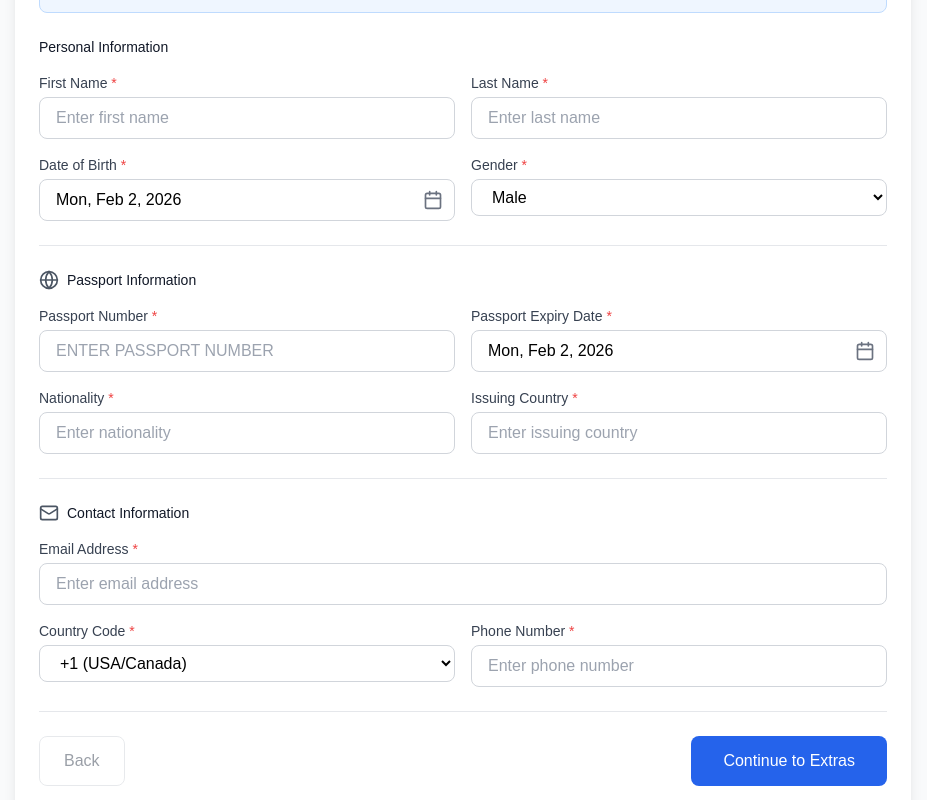
it: PassengerForm › Validation - Passport Information › shows error for empty passport number on international flights
(page scrolled)
Step 1. Click the button "Continue to Extras" → point(789, 761), box [691,736,887,786]
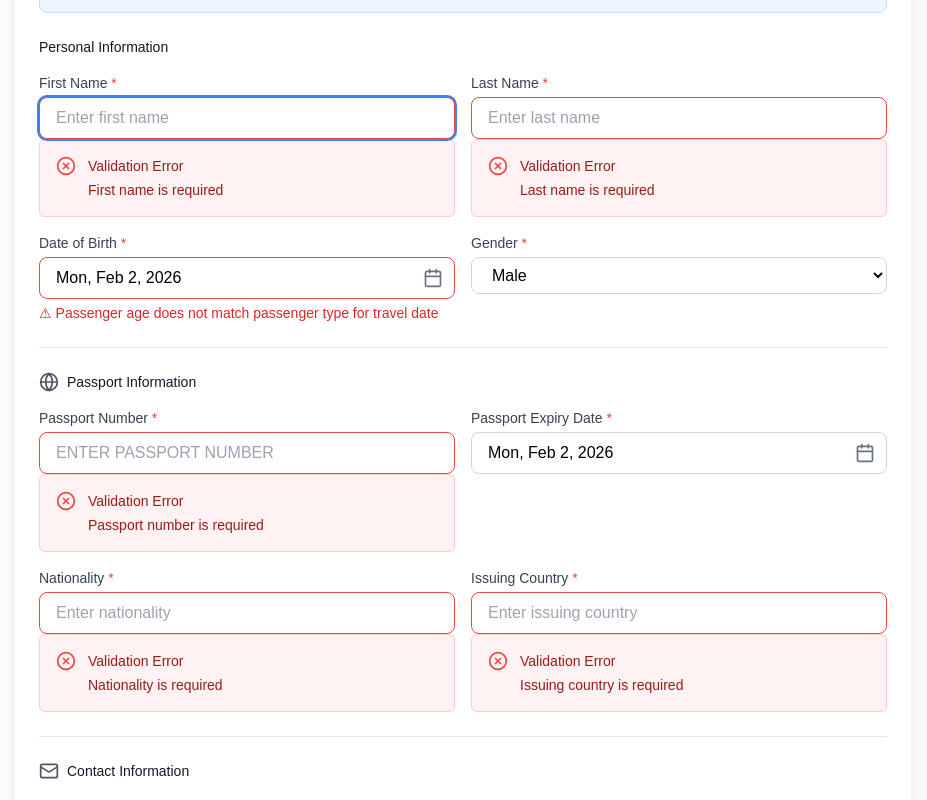
Result: the text "Passport number is required" is shown at [88,517,264,533]
